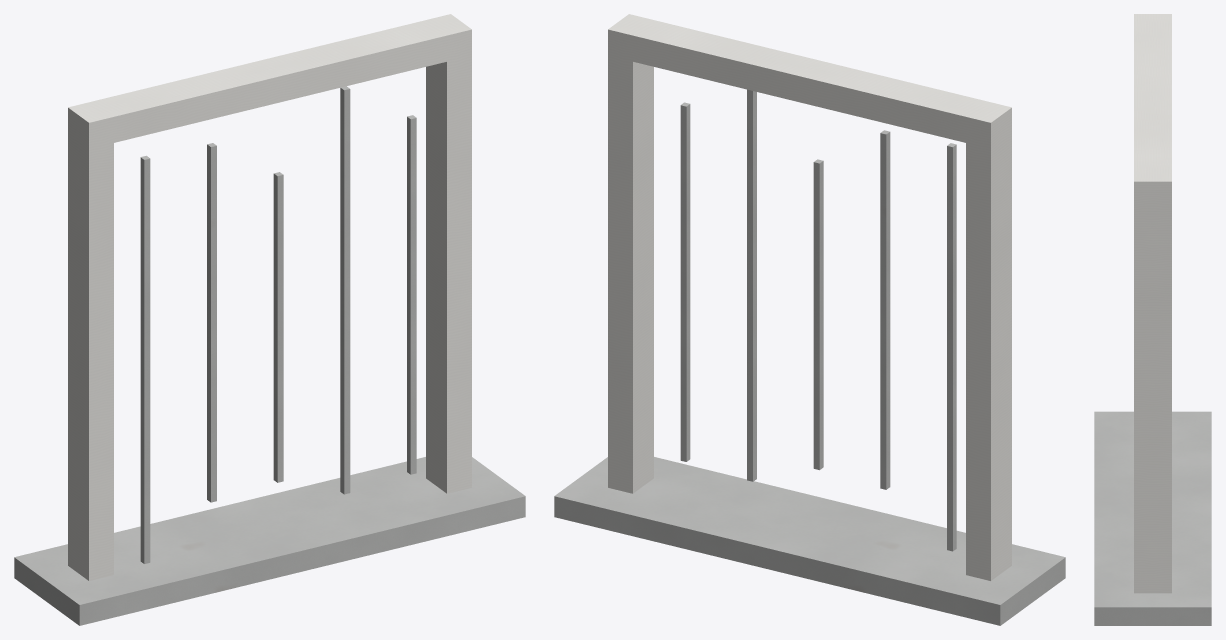
The model's file is seam.gltf.
3 views of the same model, side by side, from view 1: azimuth 30°, elevation 25°; view 2: azimuth 150°, elevation 25°; view 3: azimuth 270°, elevation 25° (orthographic). The views are drawn at different scales.
Parts seen in each view (by area): view 1: jx_seam; view 2: jx_seam; view 3: jx_seam.
Boxes of the visible parts, <box> form: jx_seam: <box>14,14,525,625</box>; jx_seam: <box>554,14,1065,625</box>; jx_seam: <box>1094,14,1211,625</box>.
Size of the model in its own units: 1.34 by 1.38 by 0.34.
2 materials, 2 textured.
